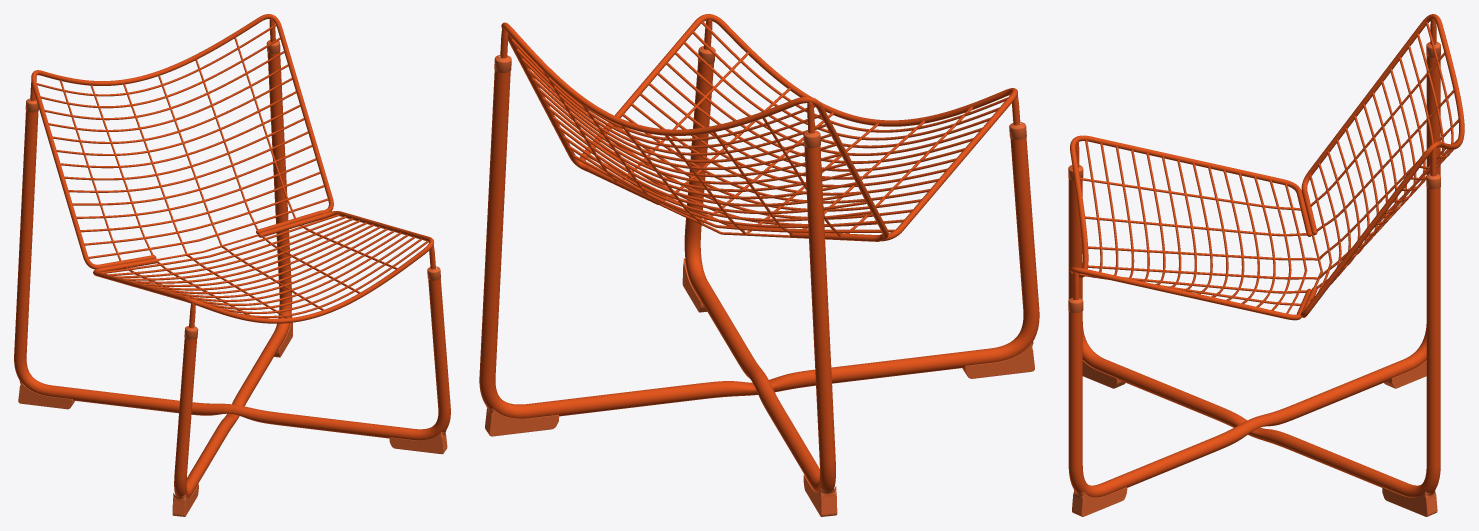
File: chair-004.glb
The picture shows the model from 3 angles, left to right: view 1: azimuth 30°, elevation 25°; view 2: azimuth 150°, elevation 25°; view 3: azimuth 270°, elevation 25°; orthographic projection. The views are drawn at different scales.
Parts seen in each view (by area): view 1: 06_BSK, 03_FB, 02_FA, 01_FTFR, 01_FTRL; view 2: 06_BSK, 02_FA, 03_FB, 01_FTRR, 01_FTFL, 01_FTRL; view 3: 06_BSK, 02_FA, 03_FB, 01_FTRR, 01_FTFR, 01_FTFL, 01_FTRL.
Boxes of the visible parts, x1,y1,x2,y2 form: 06_BSK: (30, 14, 435, 328); 03_FB: (14, 111, 450, 440); 02_FA: (174, 52, 292, 497); 01_FTFR: (389, 430, 447, 454); 01_FTRL: (18, 381, 74, 409); 06_BSK: (500, 14, 1020, 241); 02_FA: (479, 70, 1039, 418); 03_FB: (684, 61, 835, 492); 01_FTRR: (485, 406, 559, 436); 01_FTFL: (962, 342, 1034, 378); 01_FTRL: (803, 474, 837, 516); 06_BSK: (1070, 14, 1464, 320); 02_FA: (1068, 179, 1440, 497); 03_FB: (1068, 56, 1440, 497); 01_FTRR: (1382, 487, 1437, 516); 01_FTFR: (1072, 487, 1127, 516); 01_FTFL: (1082, 360, 1125, 388); 01_FTRL: (1384, 360, 1426, 388).
Bounding box in the file's own units: 0.6333 × 0.711 × 0.7019.
